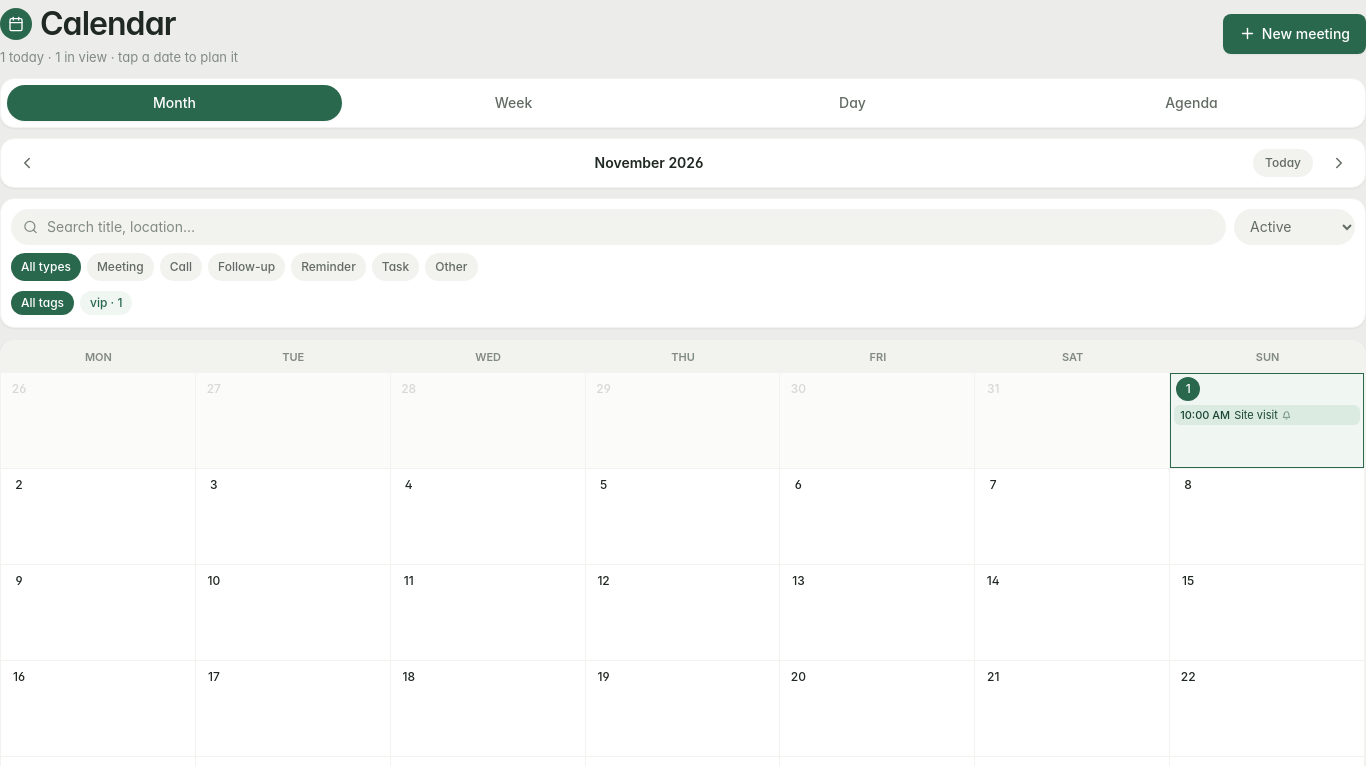
Test: CalendarPage › switches to the agenda view and opens the booking form
Expected: the text "Site visit" is shown, [1234,407,1278,423]
Click the button "agenda". click: coordinates (1192, 102)
box: [1024,84,1359,120]
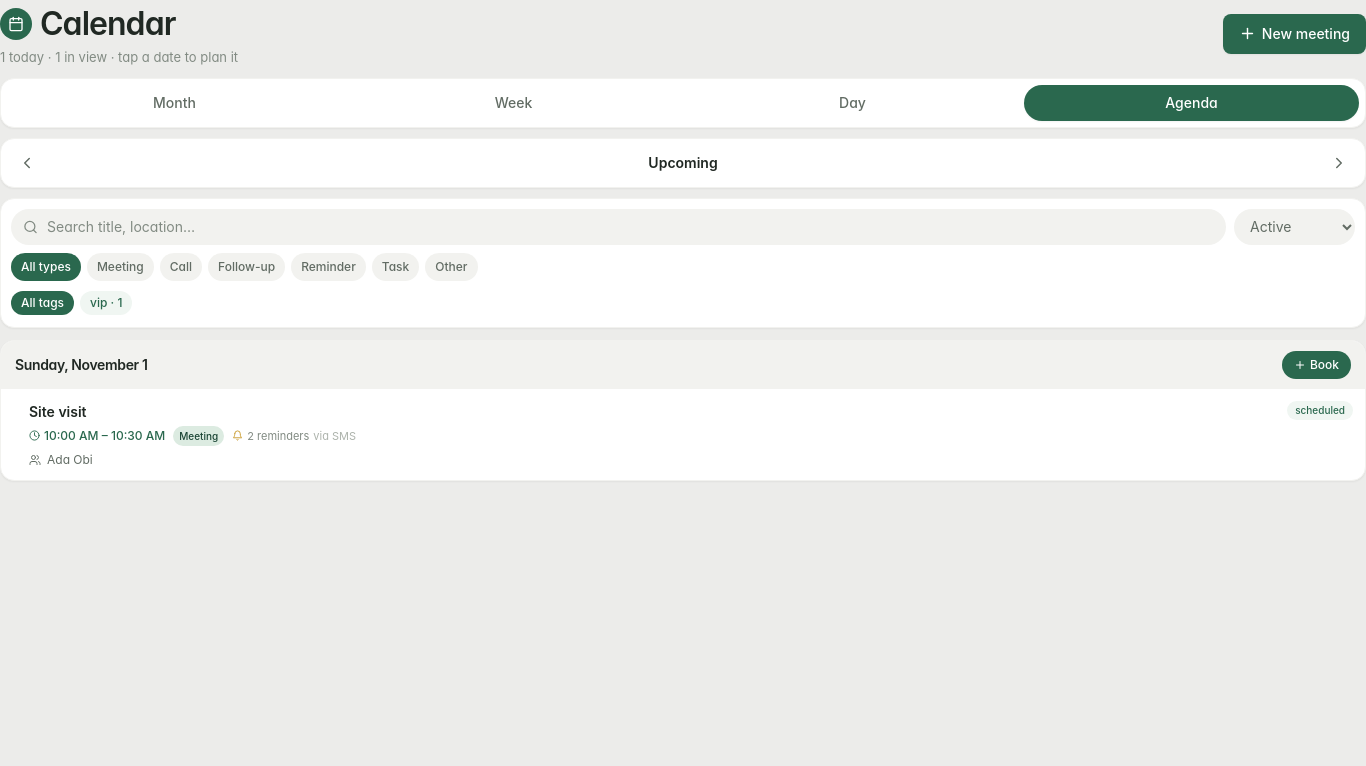
Result: the button "Upcoming" is shown at [648,152,718,172]
Click the button "New meeting". click: coordinates (1294, 34)
box: [1223,14,1365,54]
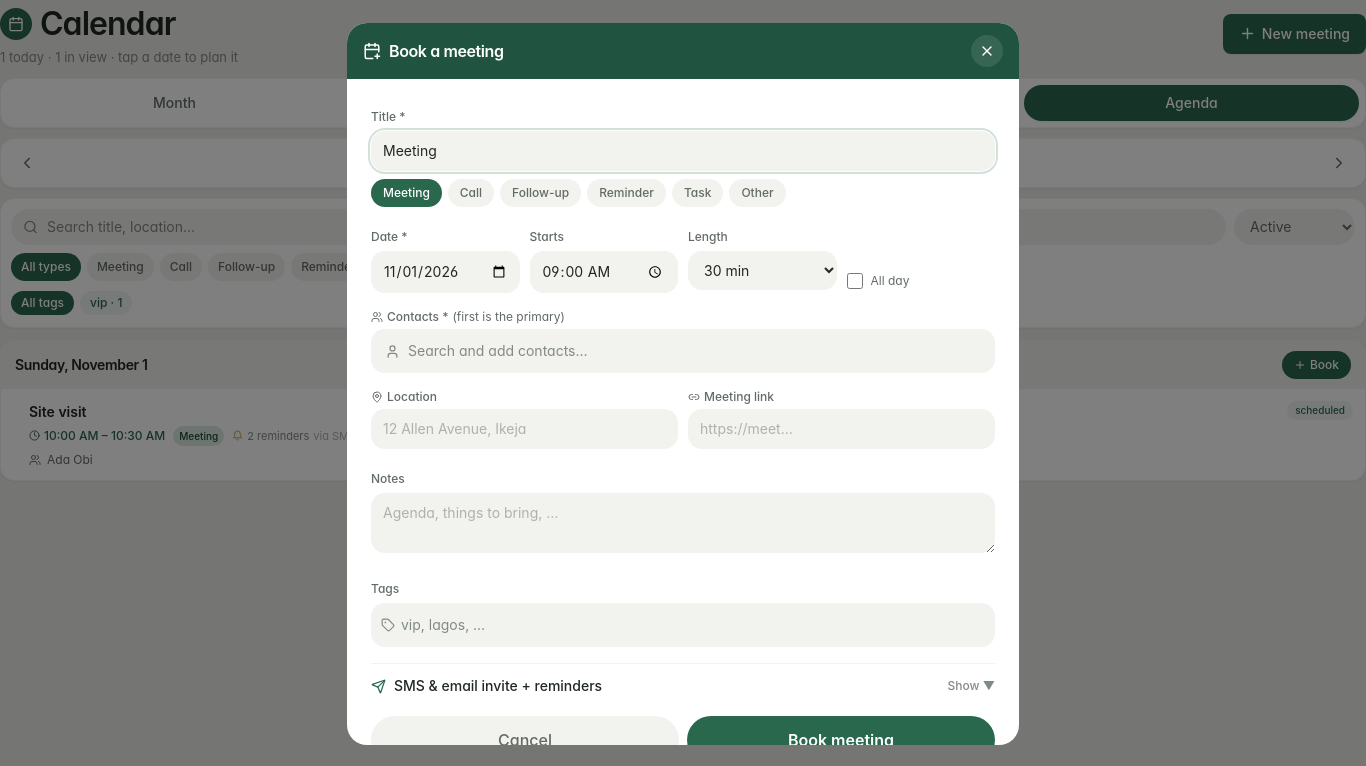
Result: the heading "Book a meeting" is shown at [363,39,504,63]
Result: the text "Contacts * (first is the primary)" is shown at [371,309,565,324]
Result: the text "SMS & email invite + reminders" is shown at [371,676,602,696]
